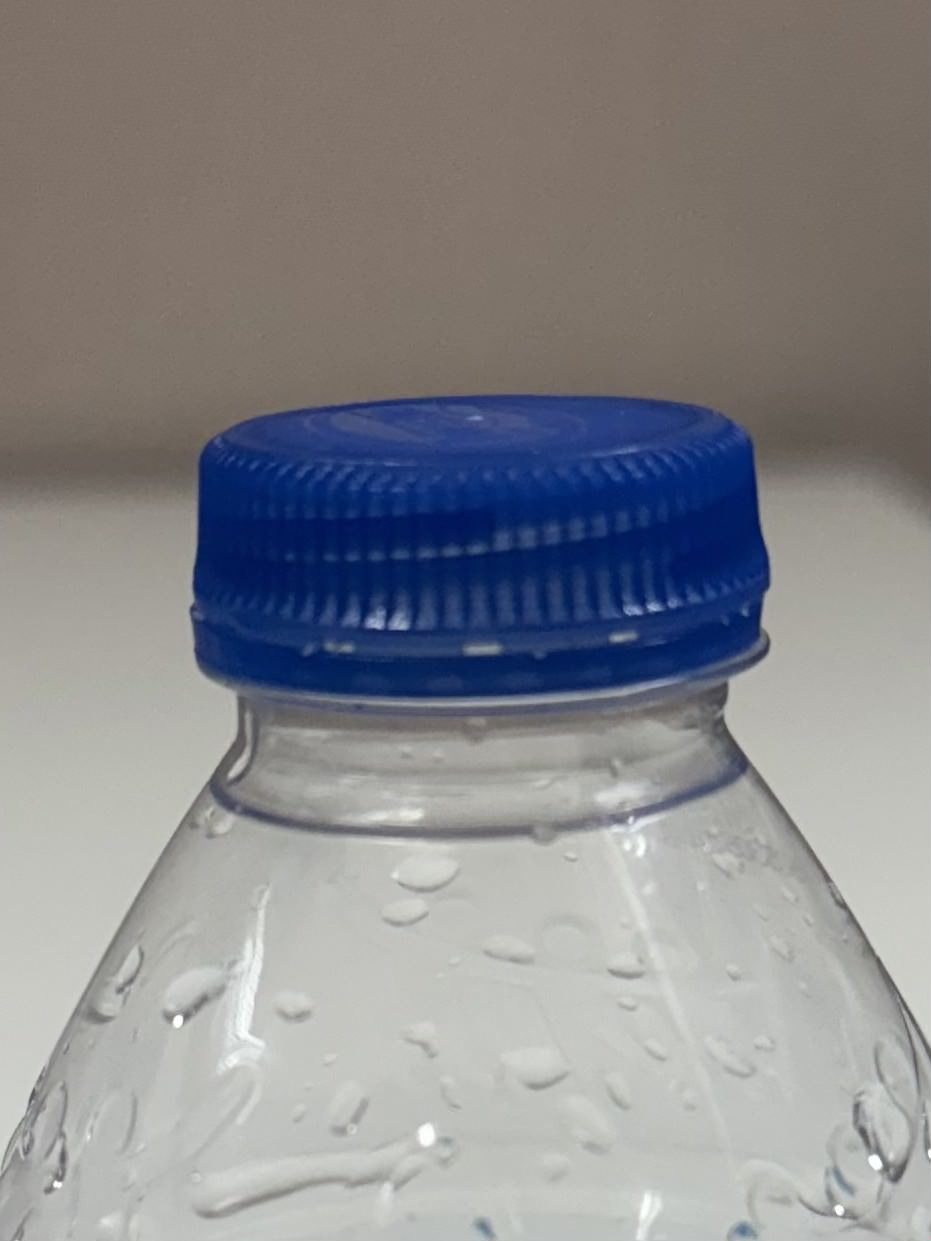closed_cap: (186, 388, 774, 707)
